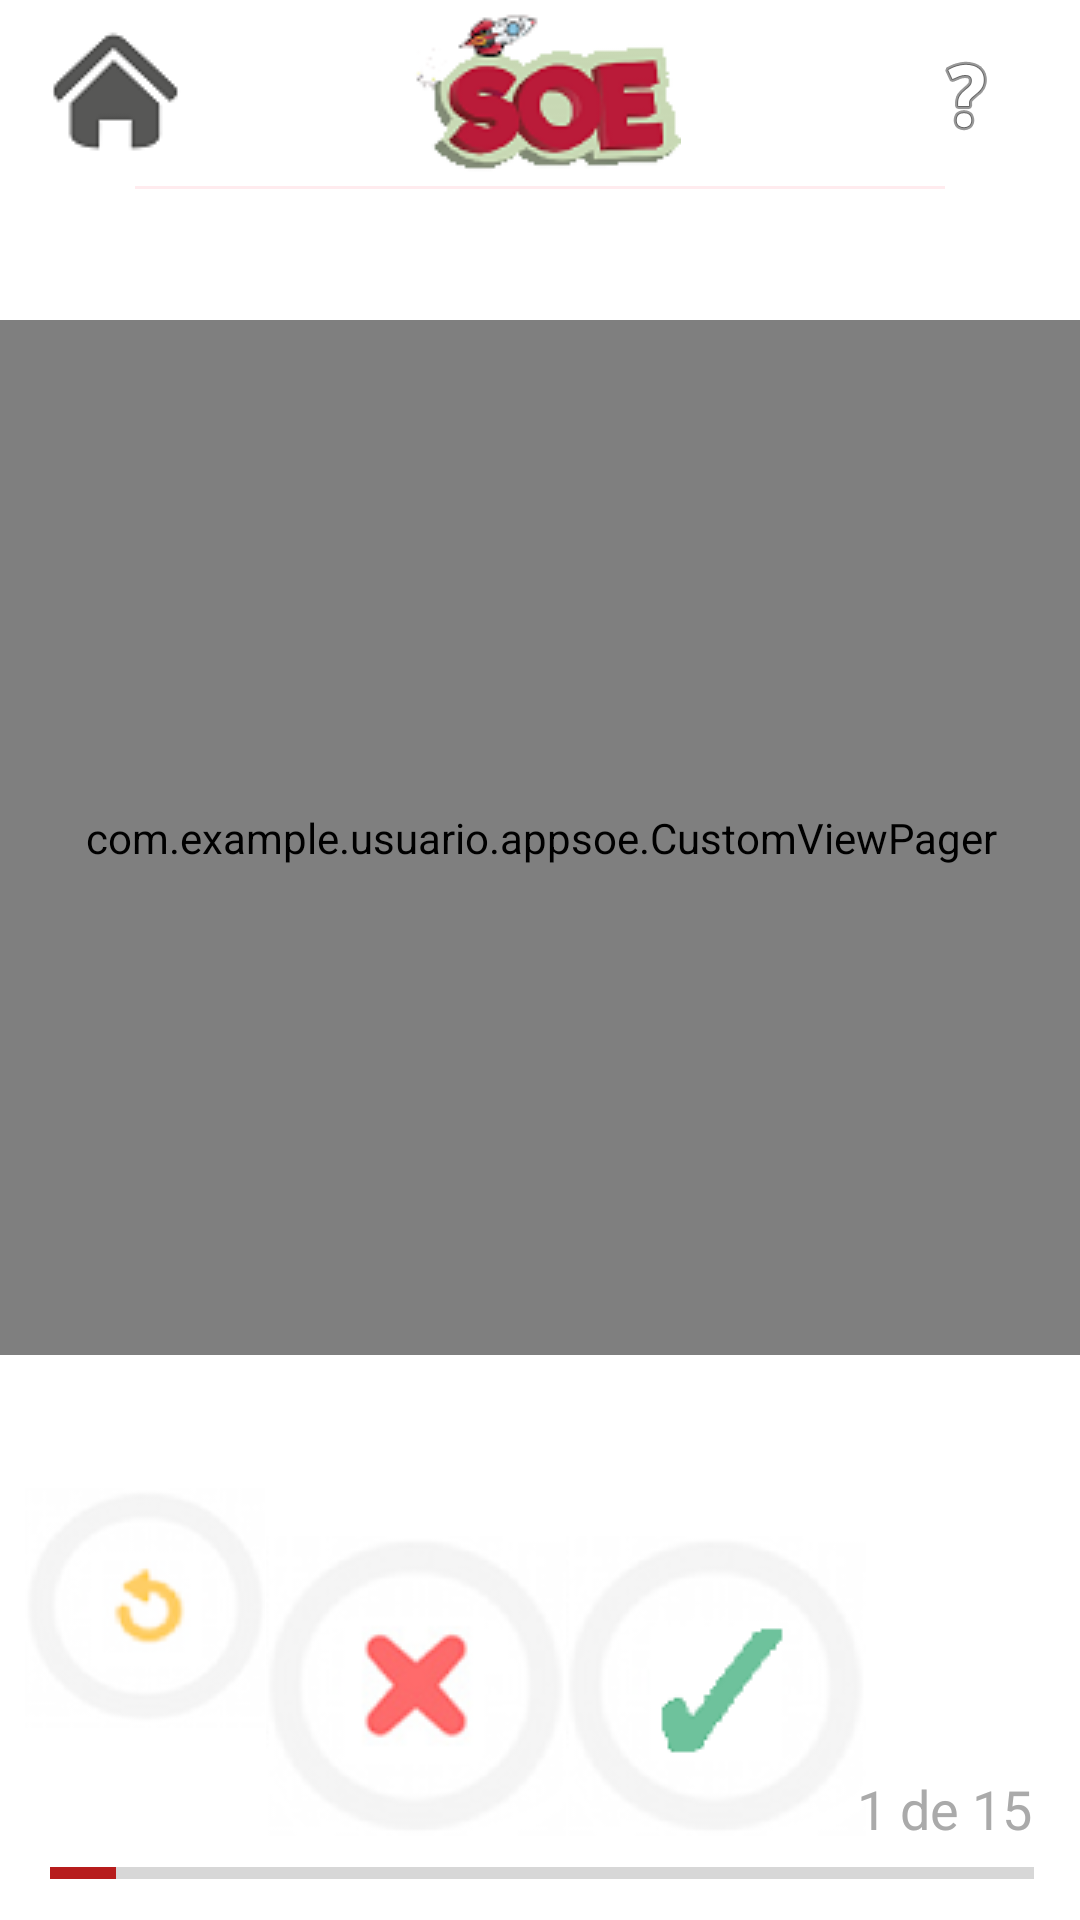

Named icons in this screenshot (1080 x 1920) and their bounding boxes, (x1, y1, x2, y2):
help: (945, 62, 987, 130)
home: (53, 33, 178, 150)
